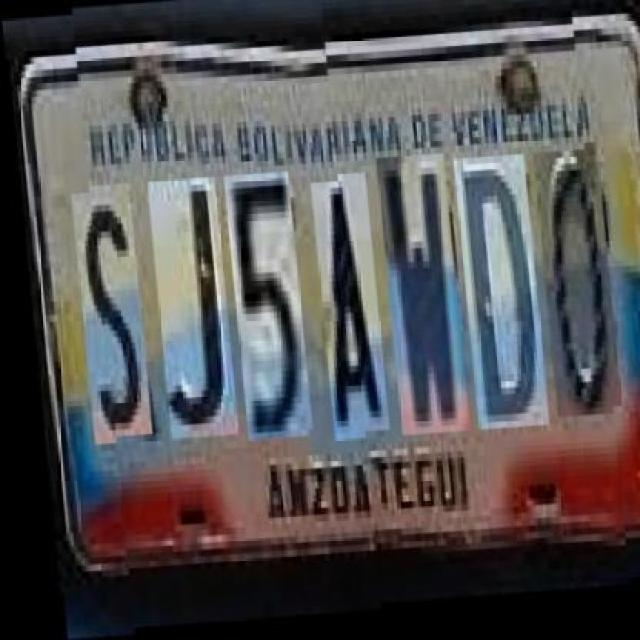5: (219, 169, 304, 436)
a: (305, 177, 381, 438)
d: (449, 161, 540, 437)
j: (142, 173, 230, 435)
o: (529, 158, 613, 425)
s: (66, 178, 143, 432)
w: (372, 160, 460, 442)
